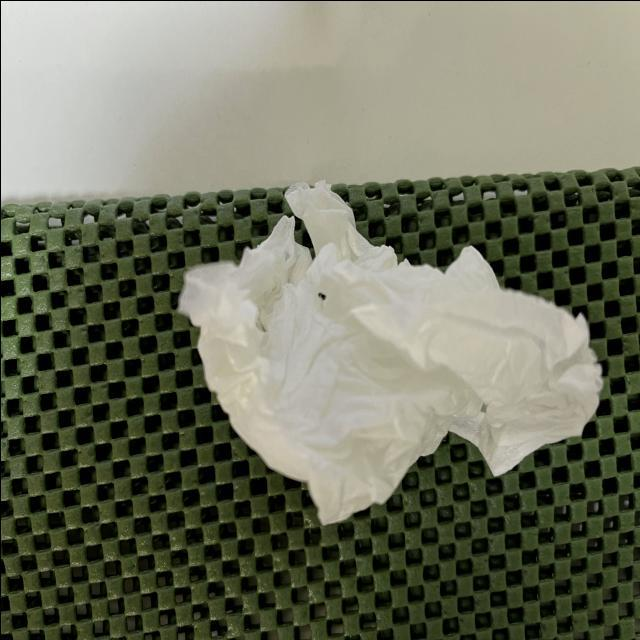Paper: (160, 164, 613, 525)
